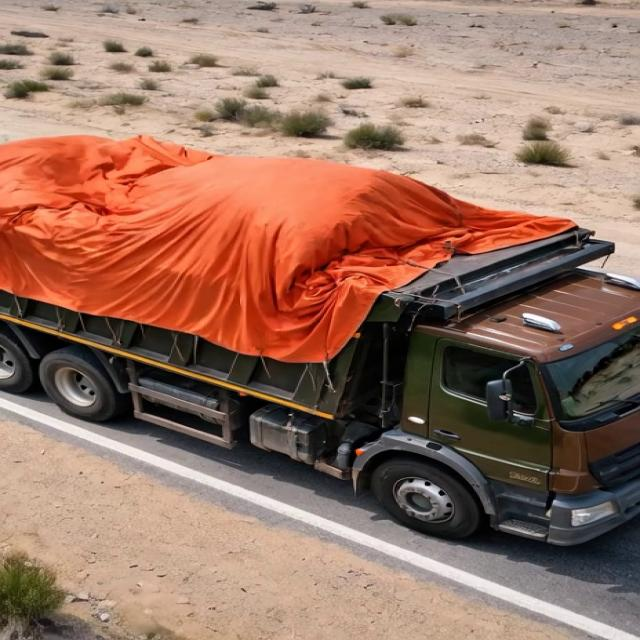Box: (0, 142, 570, 290)
